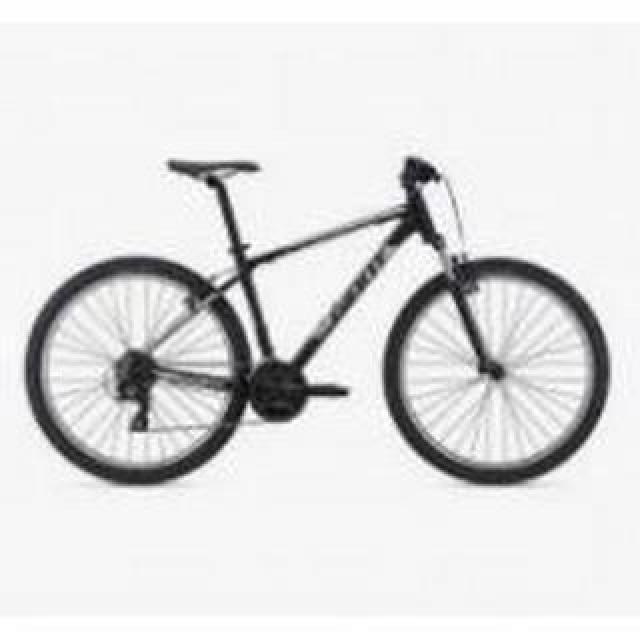Person: (16, 145, 614, 491)
